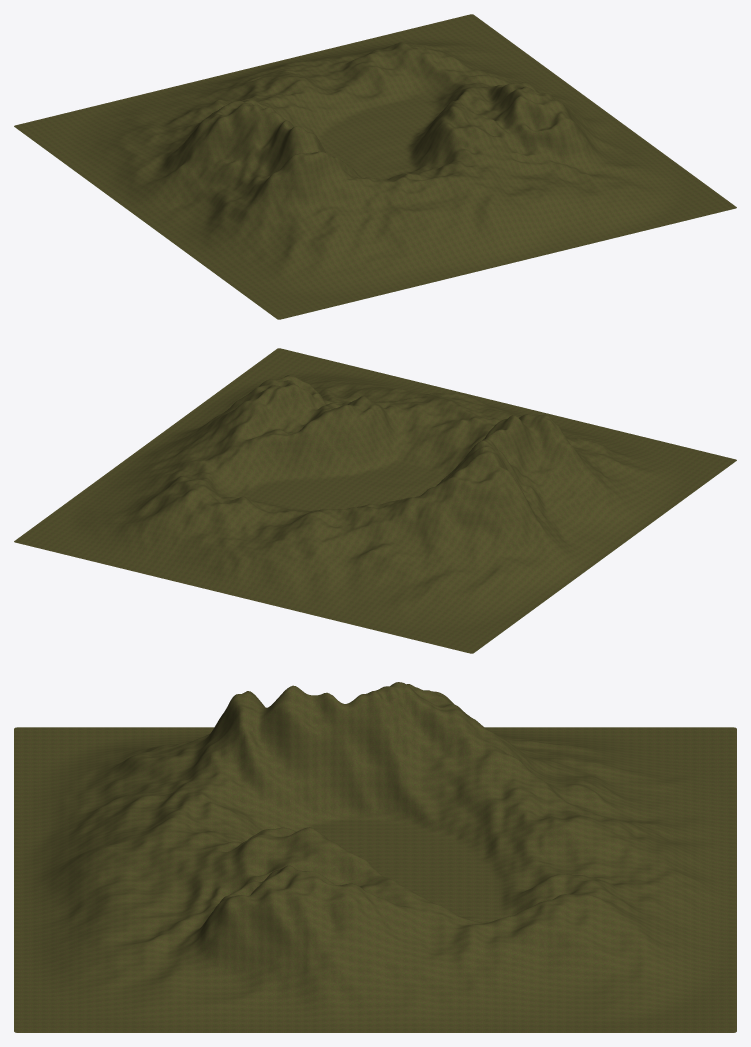
The model's file is Land.glb.
The picture shows the model from 3 angles, top to bottom: view 1: azimuth 30°, elevation 25°; view 2: azimuth 150°, elevation 25°; view 3: azimuth 270°, elevation 25°; orthographic projection. The views are drawn at different scales.
Visible parts, largest first — view 1: Land; view 2: Land; view 3: Land.
Part boxes in pixels (left/top/right/bottom): Land: left=14, top=14, right=736, bottom=319; Land: left=14, top=348, right=736, bottom=653; Land: left=14, top=682, right=736, bottom=1032.
Bounding box in the file's own units: 200 × 37.01 × 200.
Materials: 1 (1 with a texture image).
